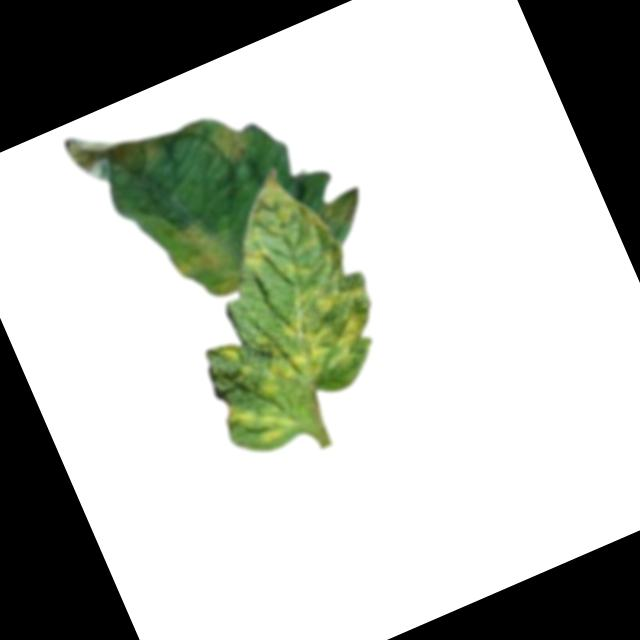Leaf_Mold: (175, 240, 411, 458), (130, 181, 250, 319), (60, 101, 175, 200), (226, 163, 309, 243), (197, 113, 258, 173), (310, 184, 370, 234), (236, 237, 274, 272)
